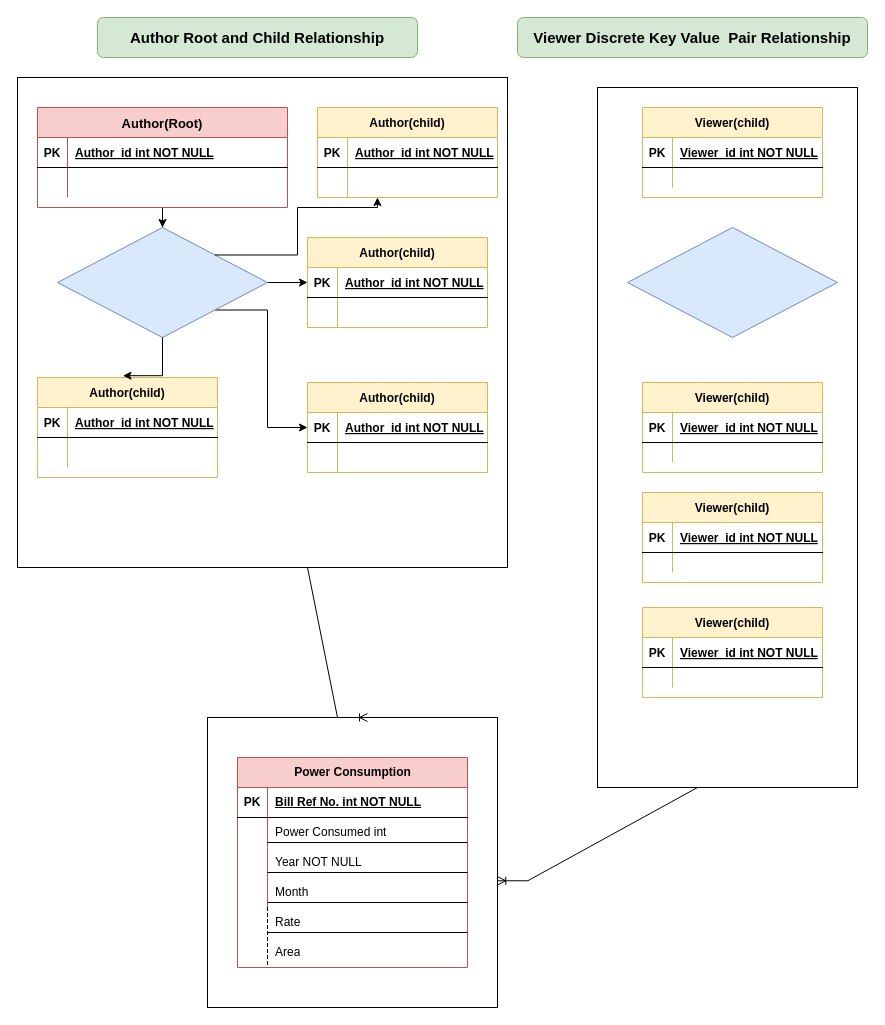
This 885x1025 diagram has some shape labels left out. The centre of each missing label's shape, as x and y in pixels:
Requires Domain Verification: [732,282]
Requires Domain Verification & Root Approval: [162,282]
